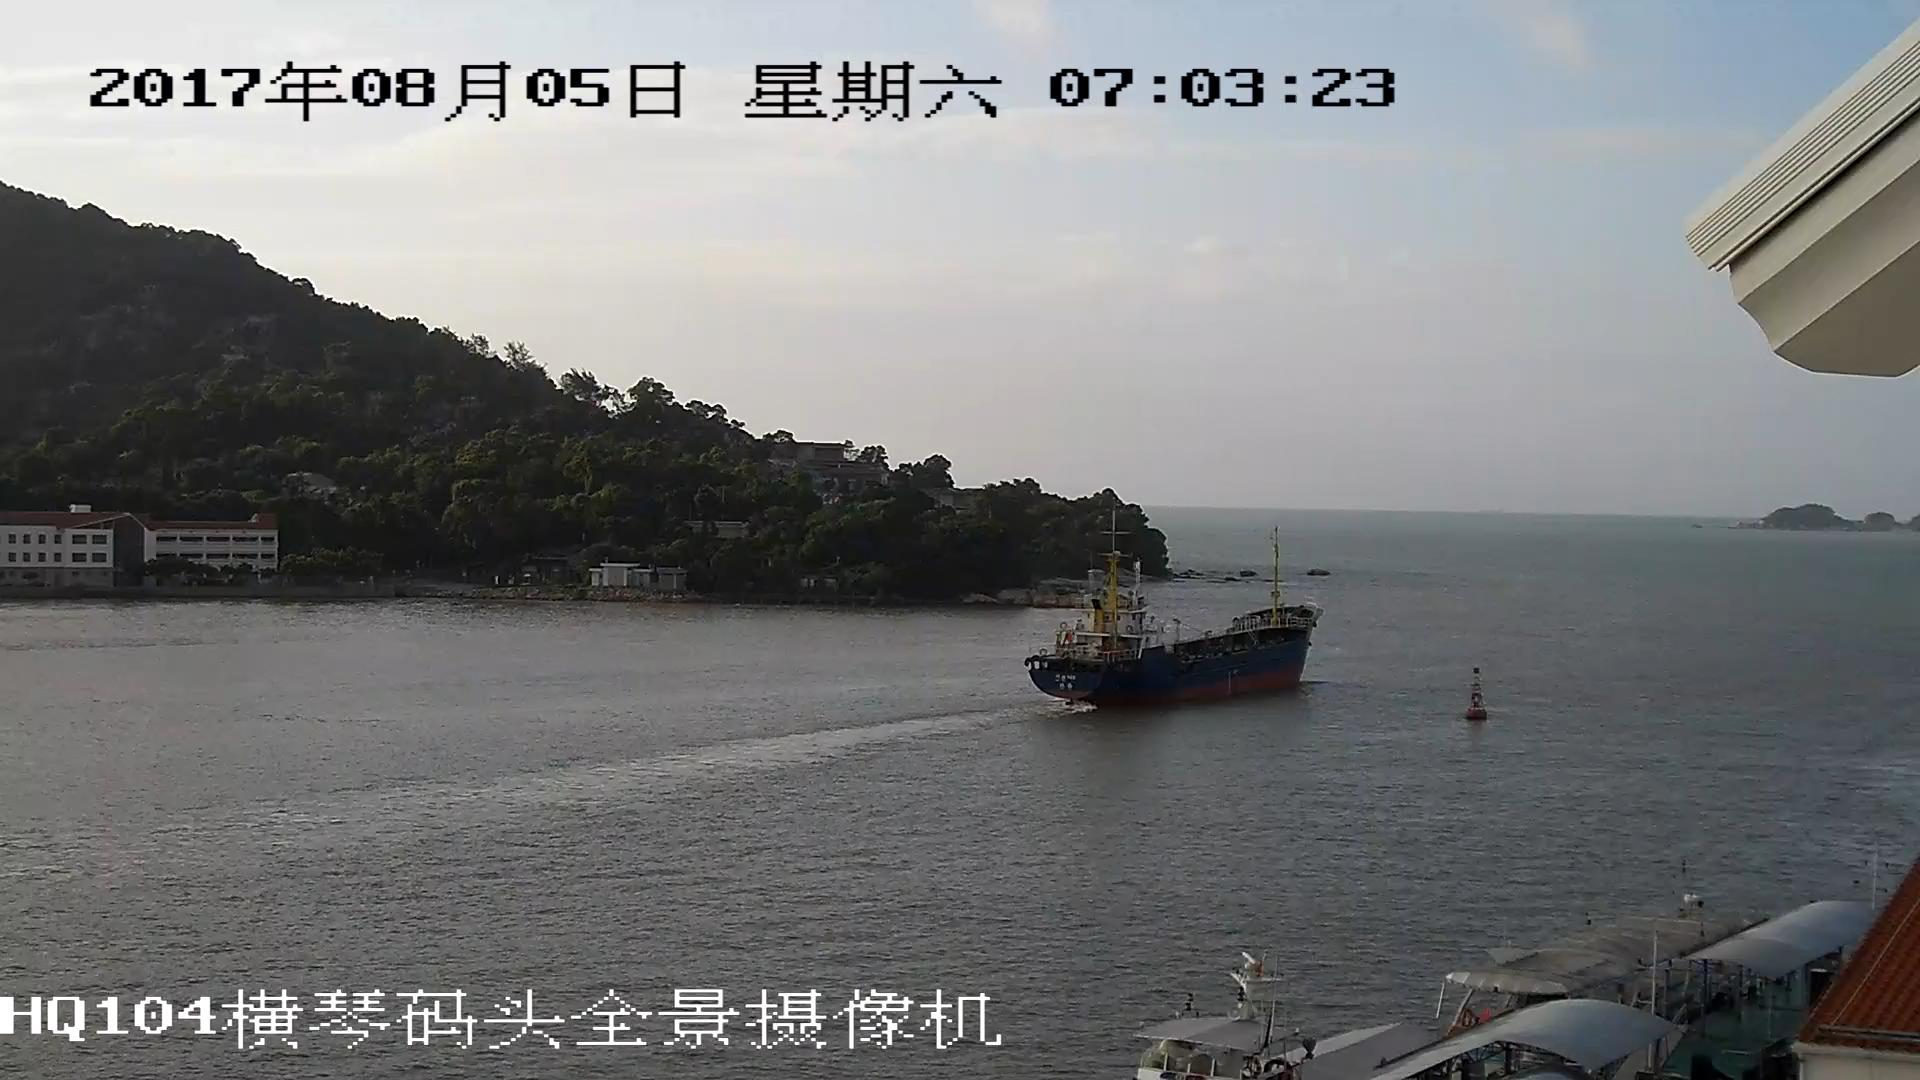Ship: (1027, 545, 1320, 709)
